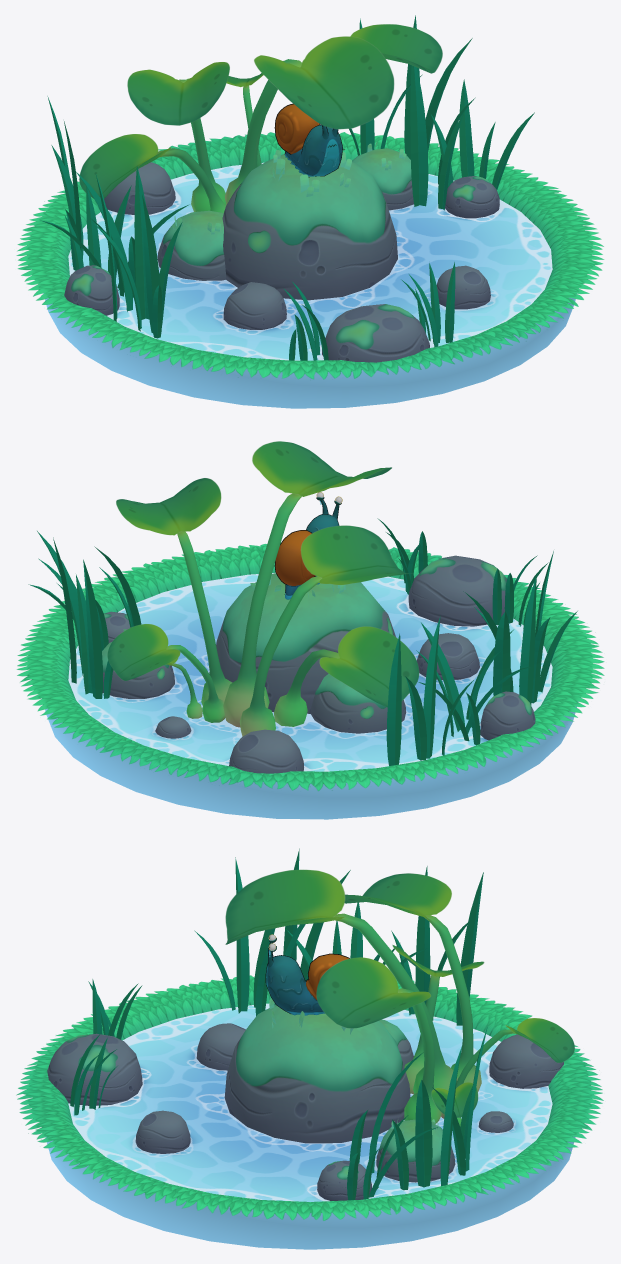
The picture shows the model from 3 angles, top to bottom: view 1: azimuth 30°, elevation 25°; view 2: azimuth 150°, elevation 25°; view 3: azimuth 270°, elevation 25°; orthographic projection.
Visible parts, largest first — view 1: Base_water, Base_cesped, Plant_ext, Rock_1_low.001, Plant_1, Plant_1.003, Rock_2_low.002, Plant_2.001, Rock_1_low.003, Snail_sad, Plant_1.001, Rock_3_low.002 (+7 smaller); view 2: Base_water, Base_cesped, Plant_ext, Rock_1_low.001, Plant_1, Plant_1.003, Plant_2.001, Plant_1.001, Rock_2_low.002, Plant_1.002, Rock_1_low.003, Rock_3_low.003 (+7 smaller); view 3: Base_water, Base_cesped, Rock_1_low.001, Plant_ext, Plant_1, Plant_1.001, Plant_1.003, Rock_2_low.002, Snail_sad, Rock_3_low.003, Plant_1.002, Rock_3_low.001 (+7 smaller).
Boxes of the visible parts, box(x1,y1,x2,y2) form: Base_water: box(43, 162, 576, 408); Base_cesped: box(16, 132, 604, 379); Plant_ext: box(40, 15, 534, 360); Rock_1_low.001: box(222, 153, 397, 300); Plant_1: box(225, 36, 394, 204); Plant_1.003: box(127, 62, 229, 211); Rock_2_low.002: box(322, 304, 429, 362); Plant_2.001: box(79, 134, 226, 212); Rock_1_low.003: box(157, 210, 225, 280); Snail_sad: box(274, 103, 342, 177); Plant_1.001: box(284, 24, 442, 153); Rock_3_low.002: box(223, 282, 286, 329); Base_water: box(45, 572, 577, 819); Base_cesped: box(16, 544, 604, 791); Plant_ext: box(28, 518, 577, 765); Rock_1_low.001: box(216, 573, 395, 713); Plant_1: box(223, 441, 391, 727); Plant_1.003: box(239, 525, 411, 736); Plant_2.001: box(274, 626, 419, 726); Plant_1.001: box(116, 478, 232, 705); Rock_2_low.002: box(408, 555, 506, 626); Plant_1.002: box(107, 624, 225, 722); Rock_1_low.003: box(310, 673, 406, 733); Rock_3_low.003: box(229, 729, 303, 773); Base_water: box(45, 1003, 575, 1249); Base_cesped: box(16, 975, 603, 1220); Rock_1_low.001: box(224, 1004, 410, 1143); Plant_ext: box(70, 848, 487, 1200); Plant_1: box(225, 869, 457, 1093); Plant_1.001: box(316, 957, 441, 1123); Plant_1.003: box(344, 873, 481, 1091); Rock_2_low.002: box(47, 1033, 142, 1105); Snail_sad: box(265, 934, 349, 1015); Rock_3_low.003: box(489, 1034, 563, 1088); Plant_1.002: box(441, 1018, 574, 1118); Rock_3_low.001: box(135, 1110, 190, 1153).
Size of the model in its own units: 52.65 by 23.92 by 52.65.
Materials: 5 (5 with a texture image).
